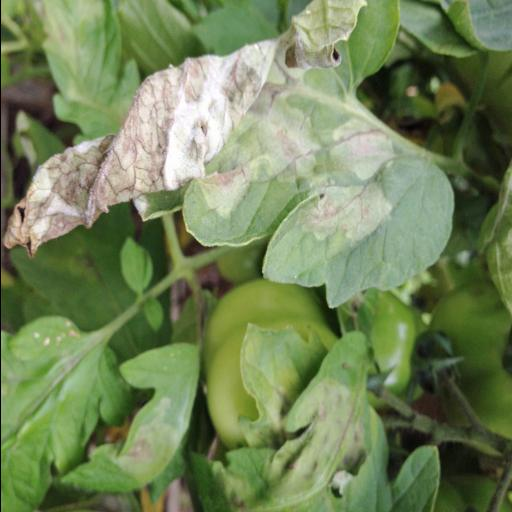disease_tomato: (0, 0, 399, 257), (261, 152, 455, 304), (254, 332, 376, 512), (64, 342, 202, 496)
